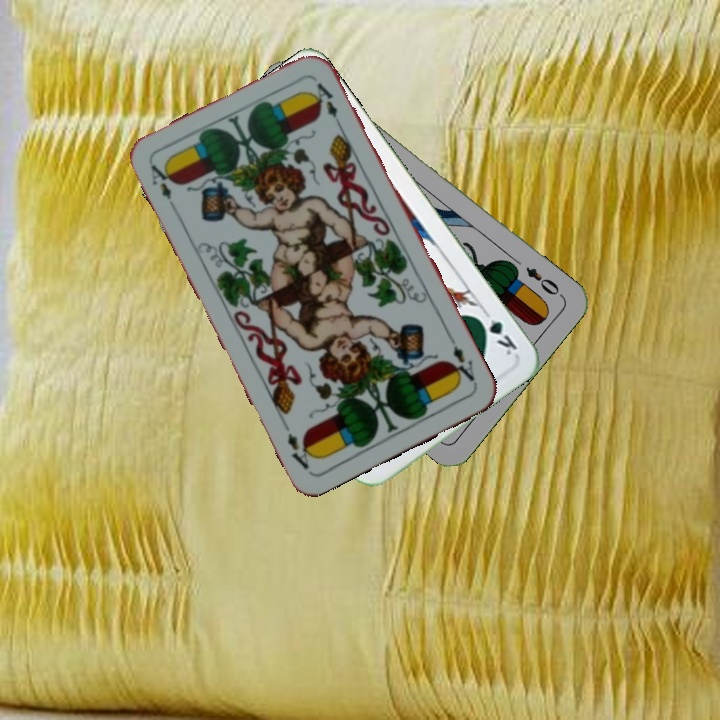EA: (146, 160, 180, 214), (445, 342, 480, 387)
EO: (521, 262, 562, 298)
GK: (473, 306, 520, 359)
